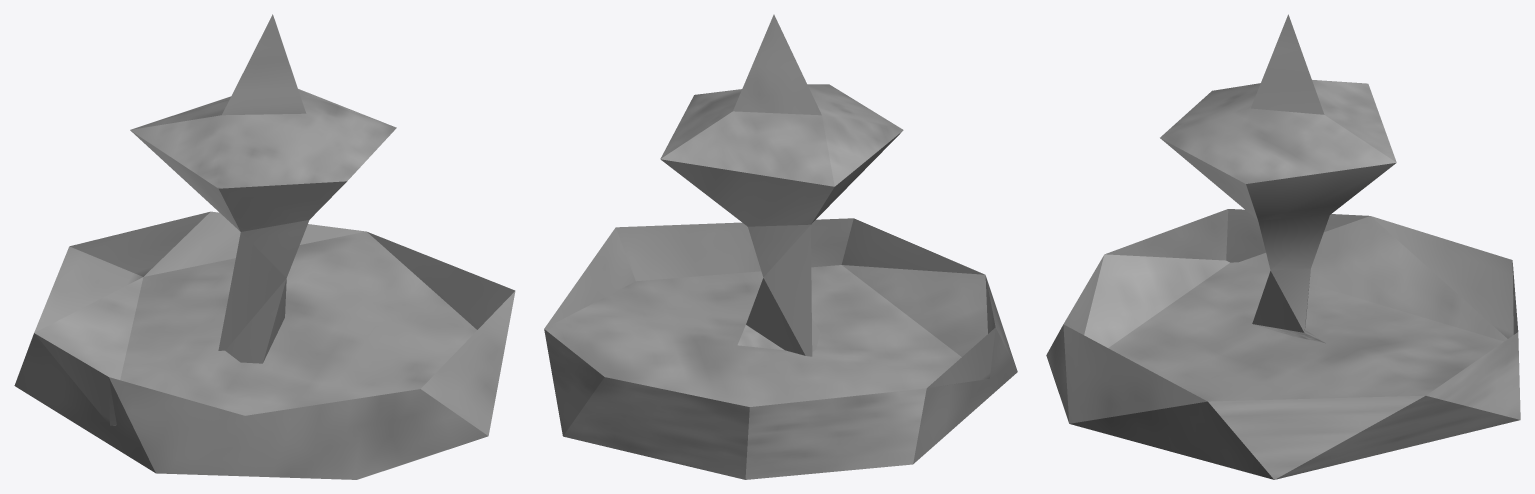
The model's file is ChafarizLOD2.fbx.
3 views of the same model, side by side, from view 1: azimuth 30°, elevation 25°; view 2: azimuth 150°, elevation 25°; view 3: azimuth 270°, elevation 25° (orthographic).
Visible parts, largest first — view 1: ChafarizLOD2; view 2: ChafarizLOD2; view 3: ChafarizLOD2.
Boxes of the visible parts, box(x1,y1,x2,y2) form: ChafarizLOD2: box(14, 14, 515, 479); ChafarizLOD2: box(544, 14, 1017, 479); ChafarizLOD2: box(1046, 14, 1520, 479).
Bounding box in the file's own units: 351 × 291 × 346.
